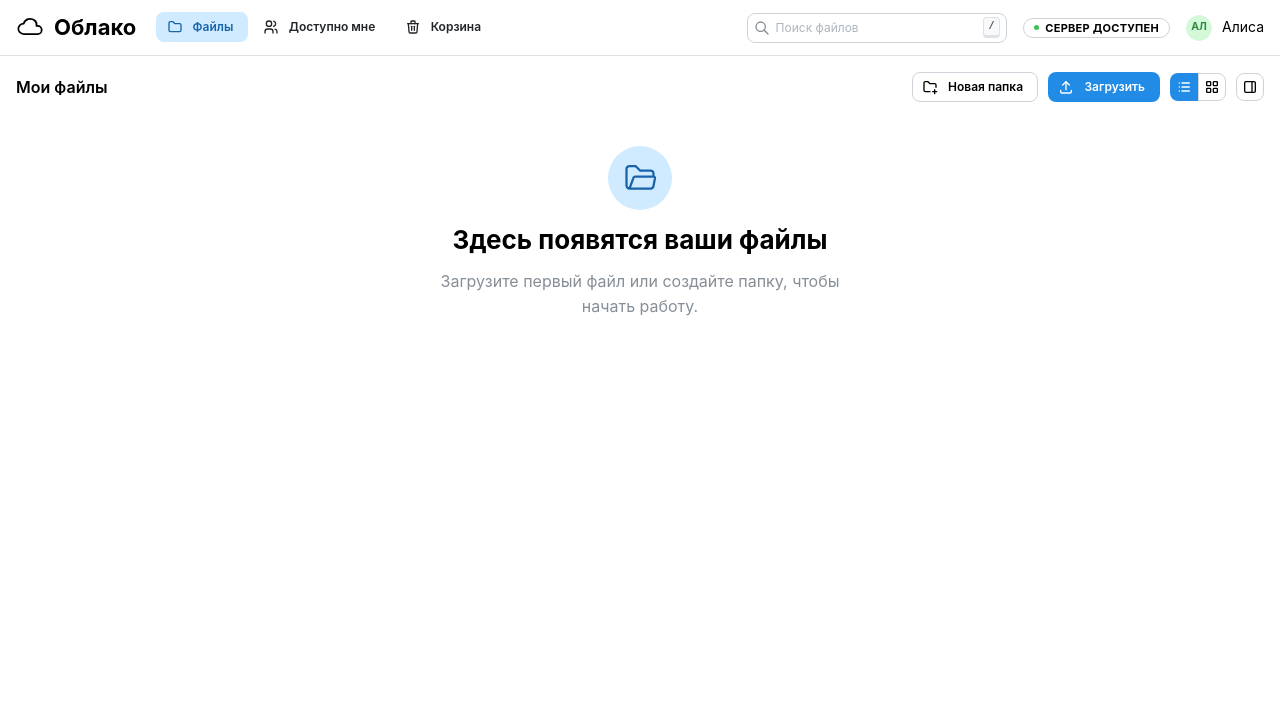
Test: App › signs out
The width and height of the screenshot is (1280, 720).
Click the button with aria-label "Меню пользователя" at {"x": 1225, "y": 28}, box [1186,14,1264,40]
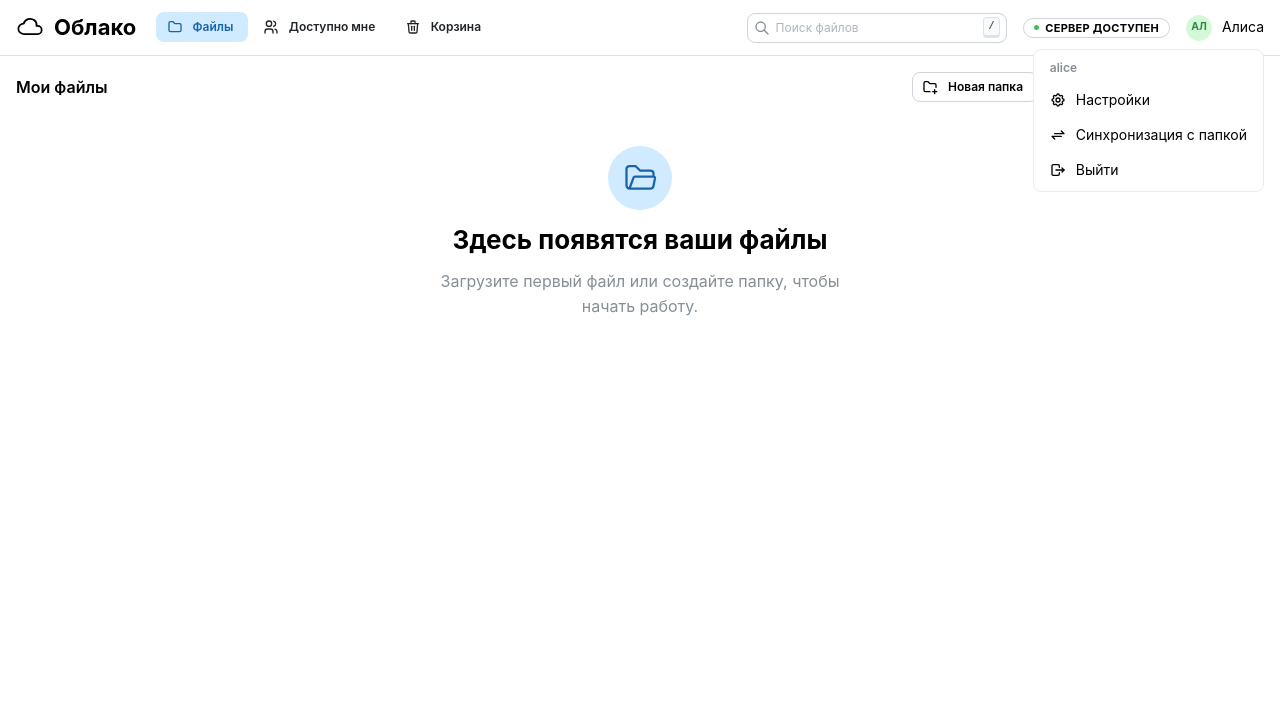
Click the menu item "Выйти" at {"x": 1148, "y": 170}, box [1038,152,1259,187]
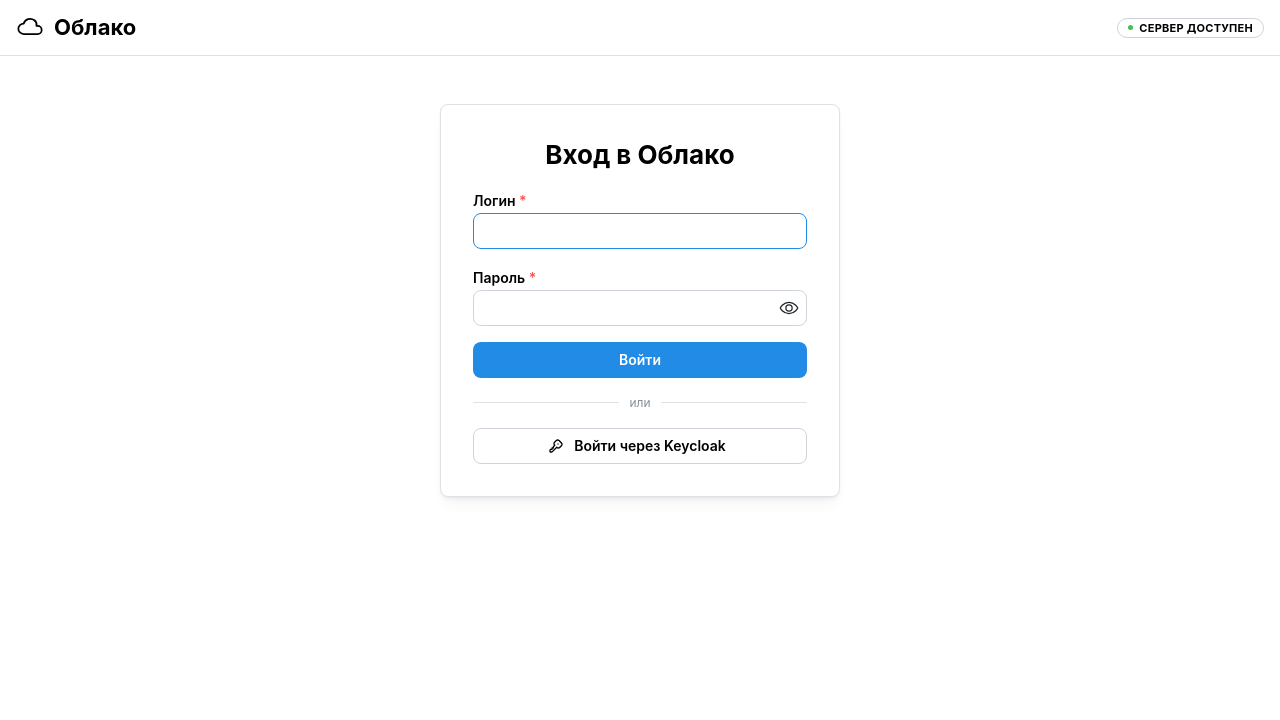
Expected: the heading "Вход в Облако" is shown, [545,139,735,170]
Expected: the button "Алиса" is gone
